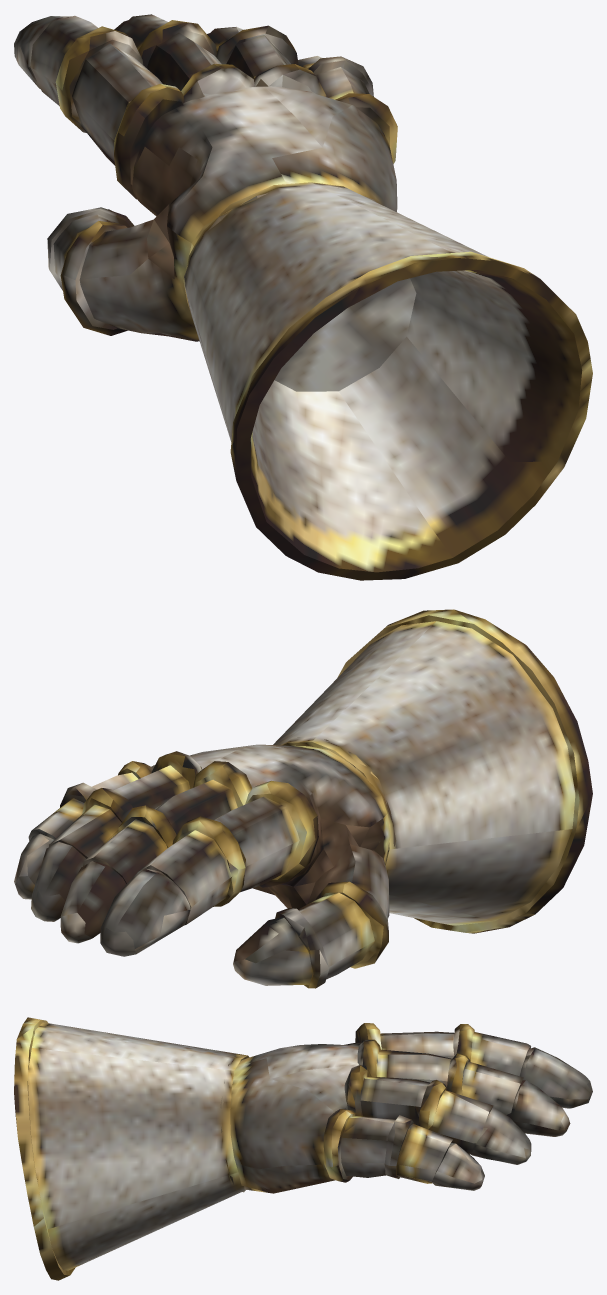
Rendered from item_gontlet1.glb.
3 views of the same model, one above another, from view 1: azimuth 30°, elevation 25°; view 2: azimuth 150°, elevation 25°; view 3: azimuth 270°, elevation 25° (orthographic). The views are drawn at different scales.
Visible parts, largest first — view 1: equipment_gontlet1; view 2: equipment_gontlet1; view 3: equipment_gontlet1.
Boxes of the visible parts, x1,y1,x2,y2 form: equipment_gontlet1: (14,14,592,580); equipment_gontlet1: (14,609,592,988); equipment_gontlet1: (14,1017,592,1280).
Size of the model in its own units: 0.5422 by 0.4645 by 1.02.
Materials: 1 (1 with a texture image).
